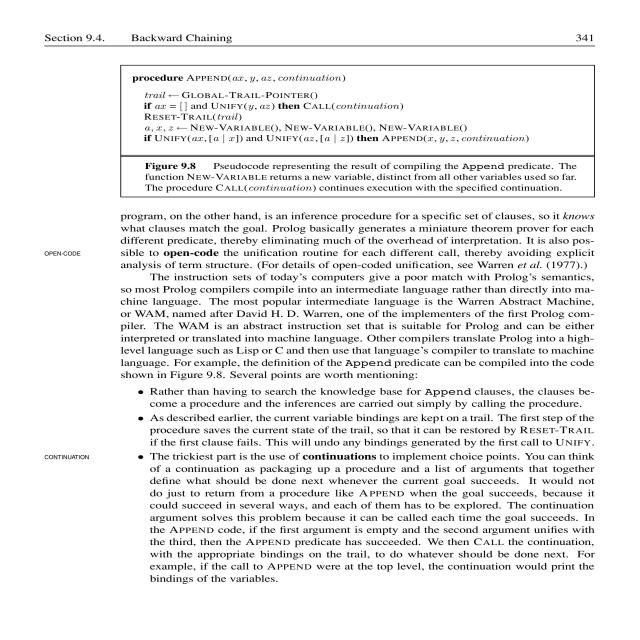diagram: (98, 55, 630, 203)
